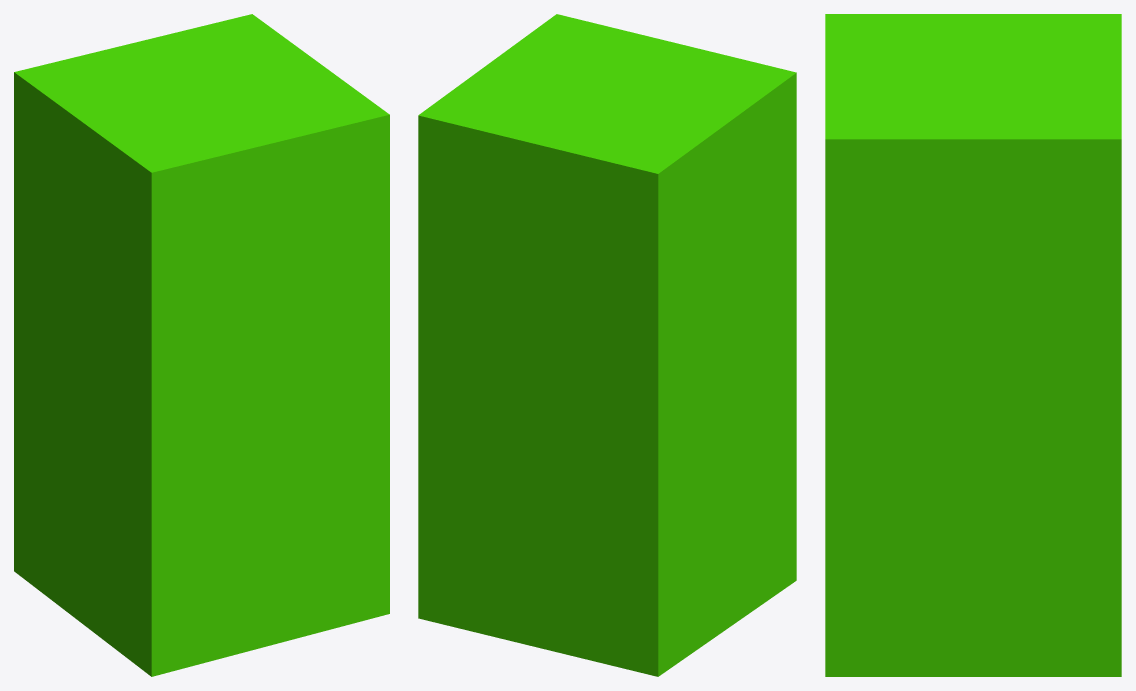
File: Playergym30.fbx
3 views of the same model, side by side, from view 1: azimuth 30°, elevation 25°; view 2: azimuth 150°, elevation 25°; view 3: azimuth 270°, elevation 25° (orthographic). The views are drawn at different scales.
Parts seen in each view (by area): view 1: Cube.029; view 2: Cube.029; view 3: Cube.029.
Boxes of the visible parts, box(x1,y1,x2,y2) form: Cube.029: box(14, 14, 389, 676); Cube.029: box(418, 14, 796, 676); Cube.029: box(825, 14, 1121, 676).
Size of the model in its own units: 100 by 202 by 100.
